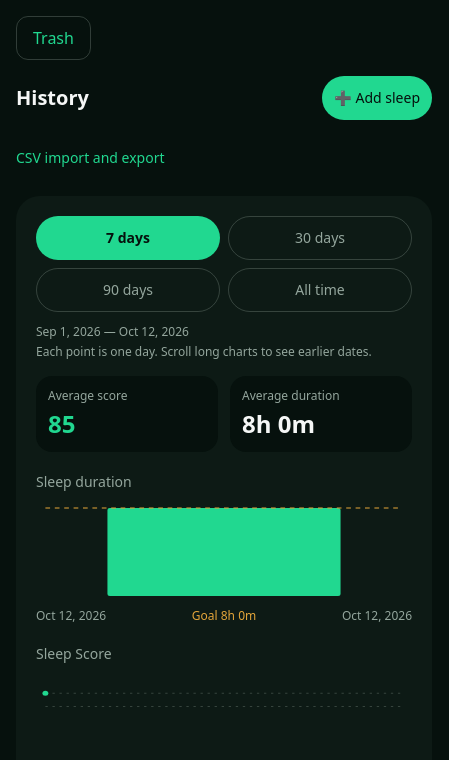
Scenario: switches to 90 days and all time with named pressed controls and explicit grouping
The image size is (449, 760).
Click the button "90 days" at (128, 290), box left=36, top=268, right=220, bottom=312
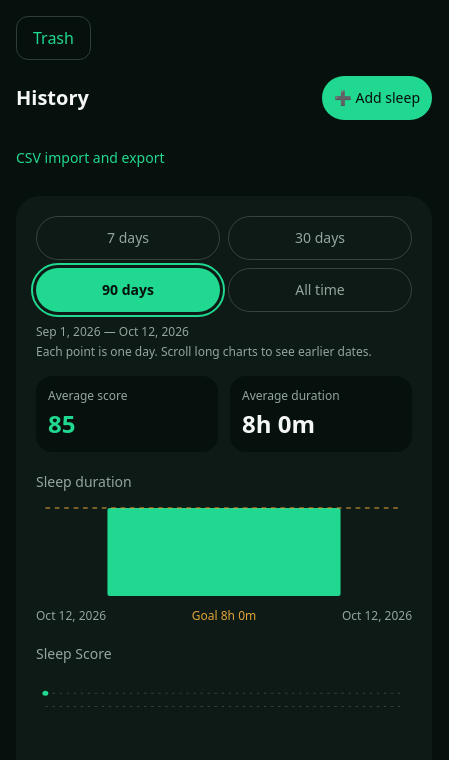
Expected: the button "90 days" is pressed, left=36, top=268, right=220, bottom=312
Click the button "All time" at (320, 290), box left=228, top=268, right=412, bottom=312
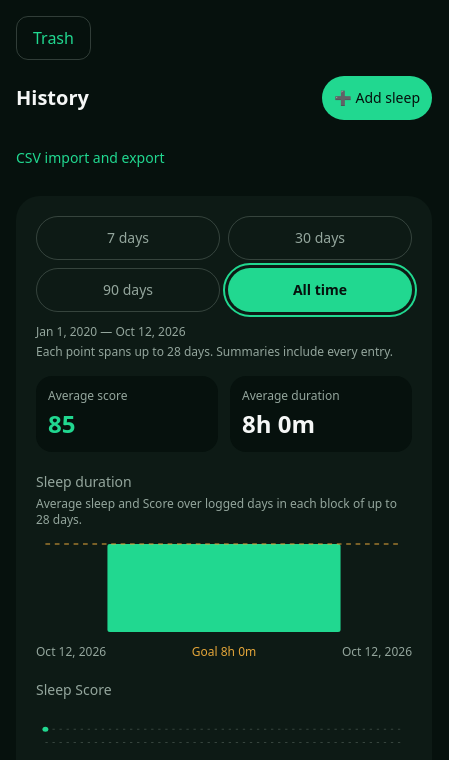
Expected: the text "Each point spans up to 28 days. Summaries include every entry." is shown, left=36, top=343, right=393, bottom=360
